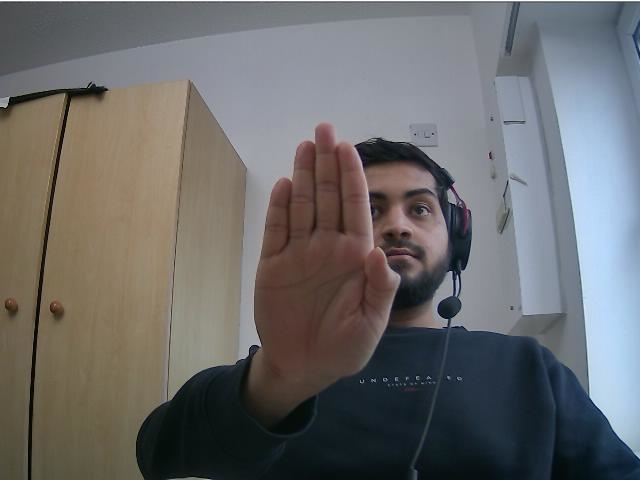up: (252, 120, 403, 368)
